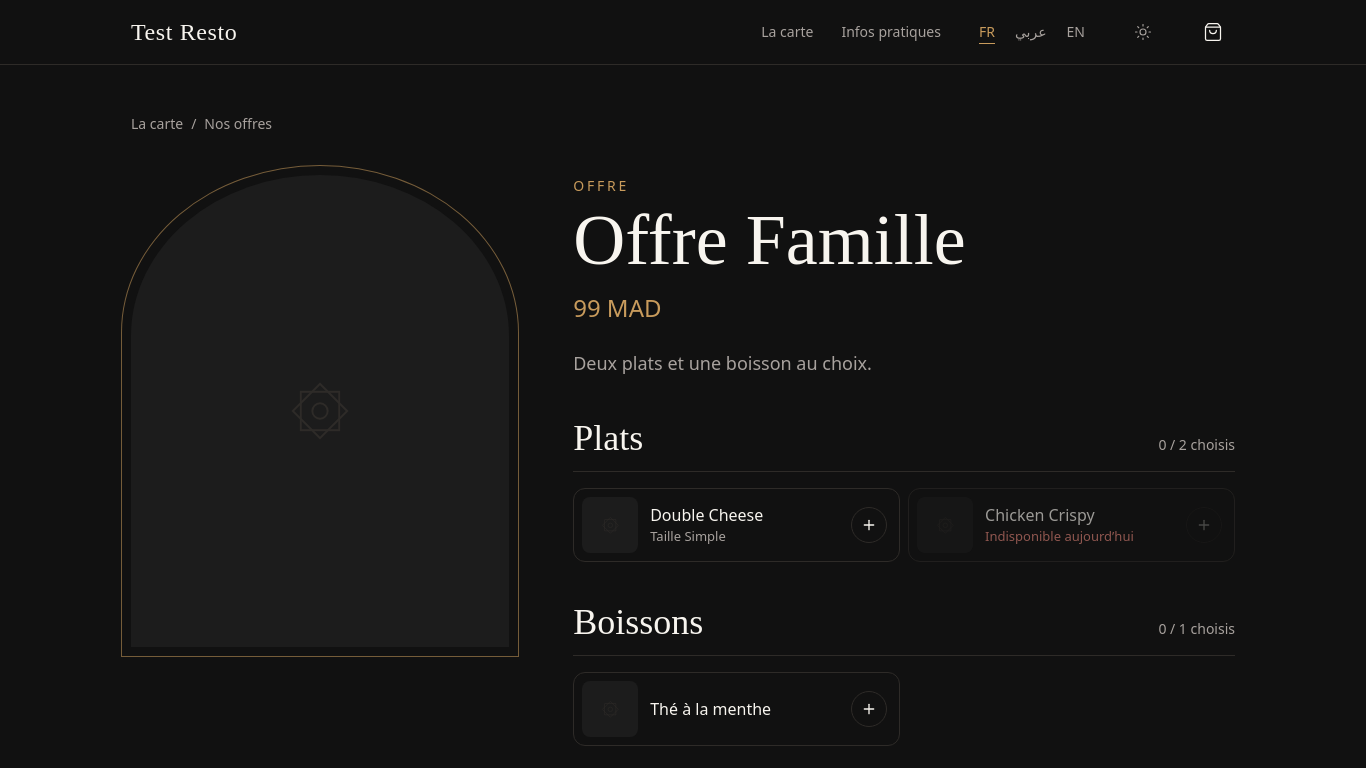
it: offers › are built by picking dishes in every group, then added to the cart
Later steps or results of the test are not shown.
Expected: the heading "Offre Famille" is shown, [573,200,966,280]
Expected: the button named "Ajouter : Chicken Crispy" is disabled, [1186,507,1222,543]
What coordinates should you click on to do the following:
click the button named "Ajouter : Double Cheese"
I would click on:
 (869, 525)
Its box is [851,507,887,543].
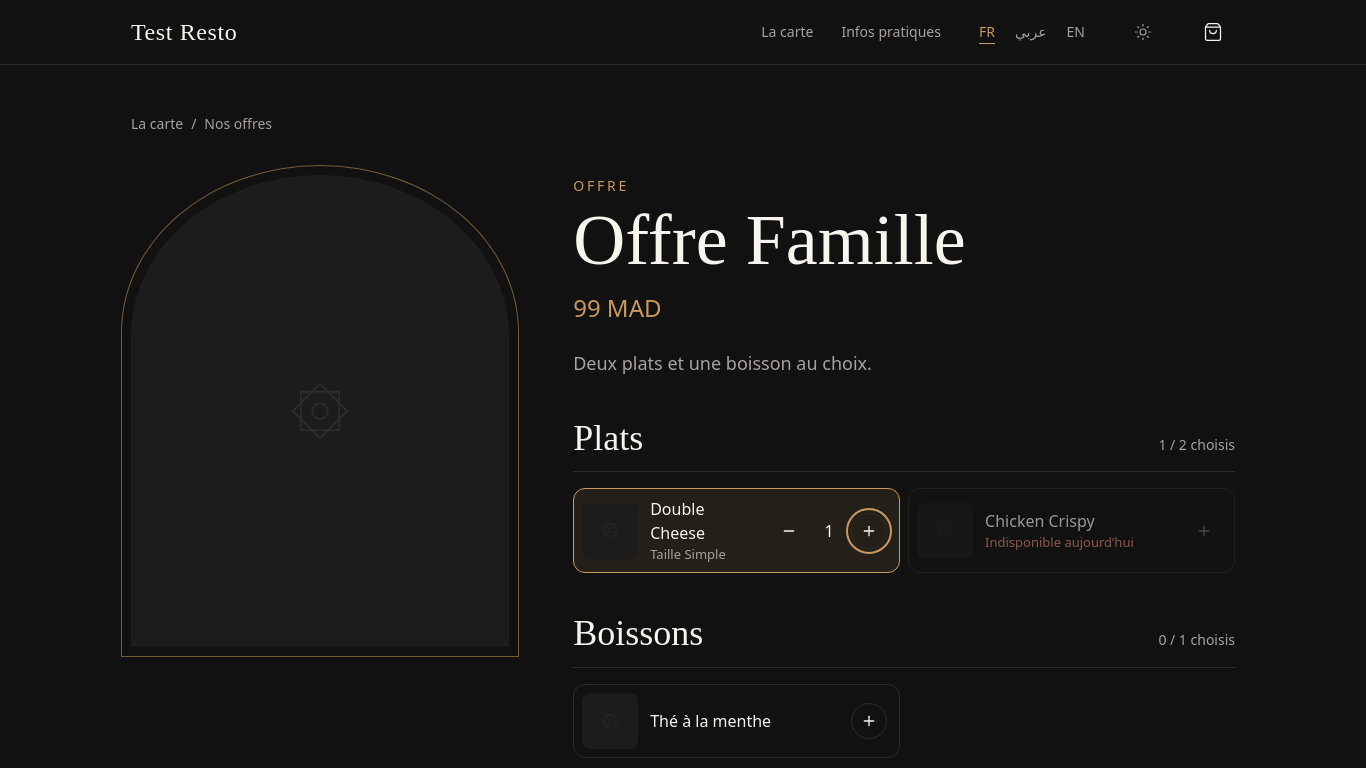
What coordinates should you click on to do the following:
click the button named "Ajouter : Double Cheese"
I would click on:
 (869, 531)
Its box is [851,513,887,549].
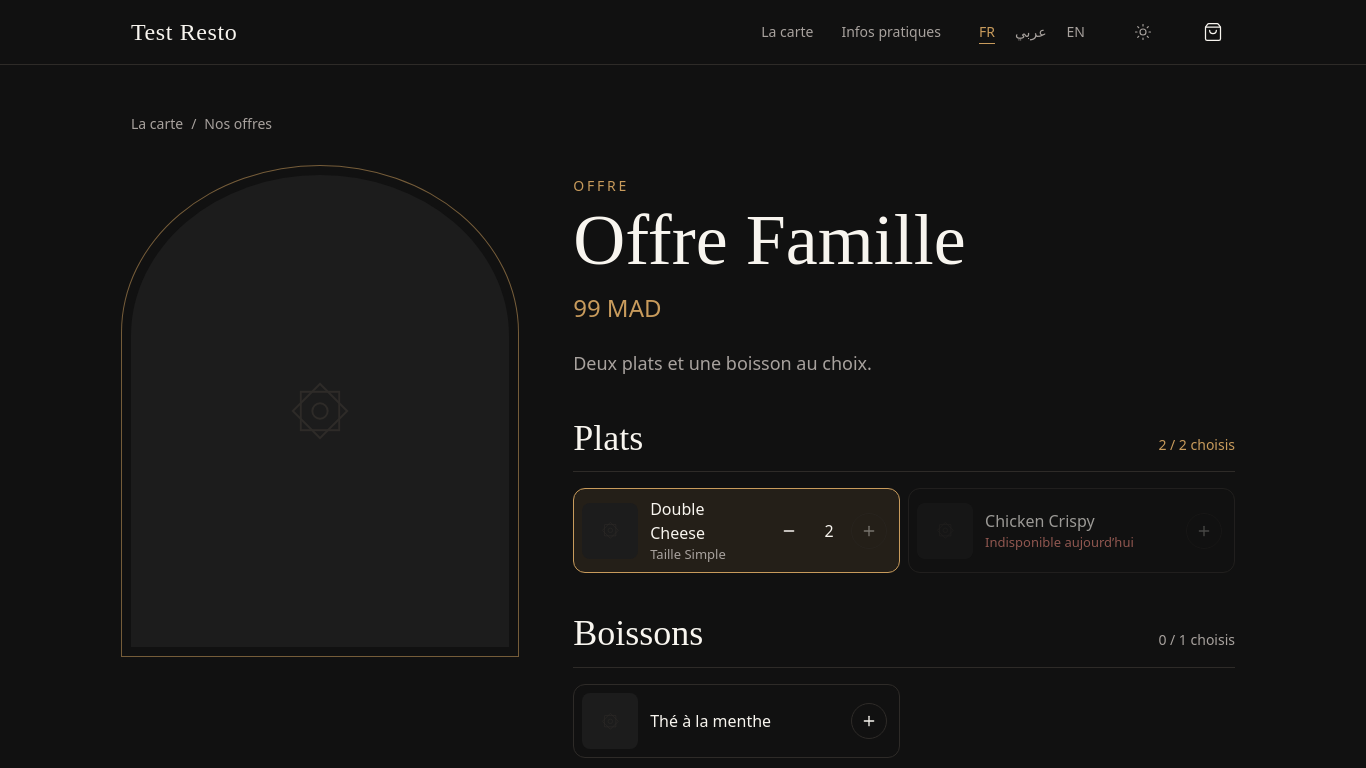
Now the button named "Ajouter : Double Cheese" is disabled, box [851,513,887,549]
Now the text "2 / 2 choisis" is shown, box [1158,434,1235,455]
What coordinates should you click on to do the following:
click the button named "Ajouter : Thé à la menthe"
I would click on:
 (869, 721)
Its box is [851,703,887,739].
(page scrolled)
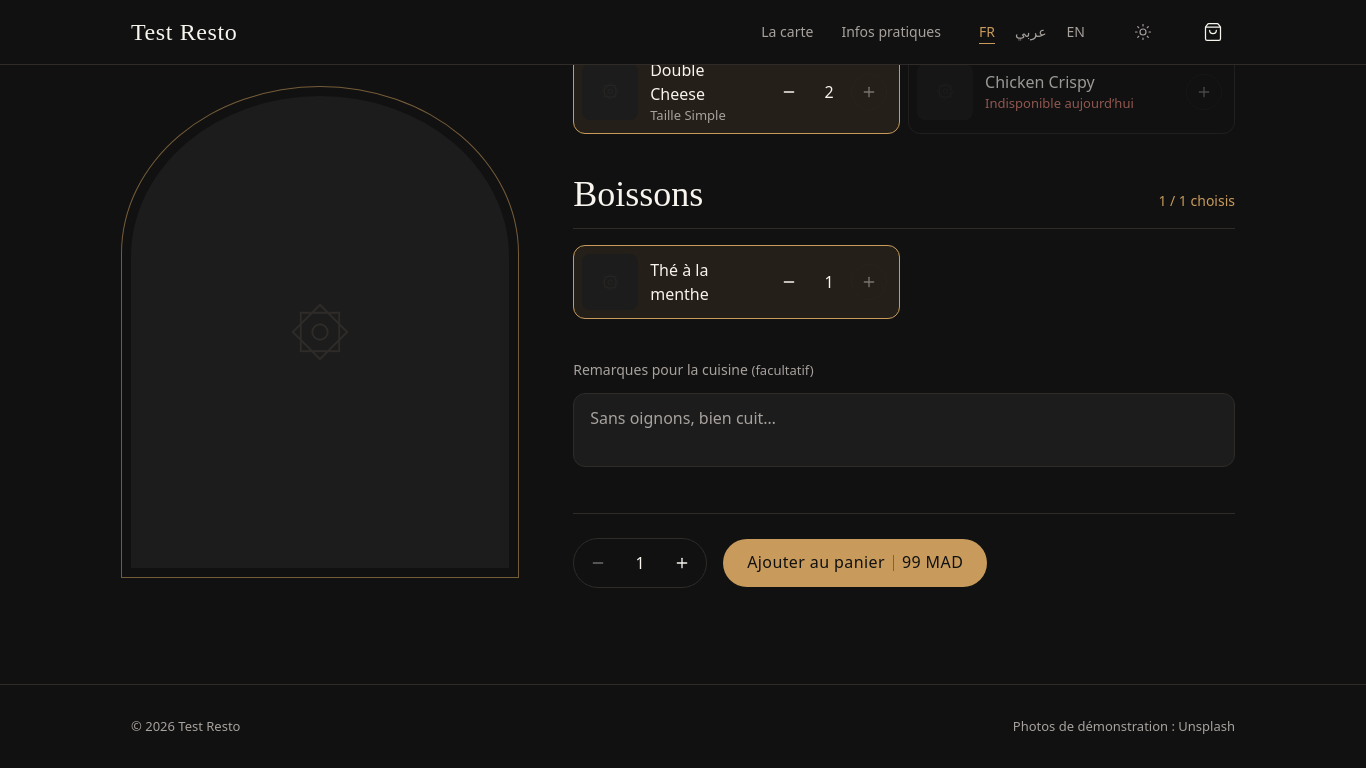
Expected: the button "Ajouter au panier 99 MAD" is shown, [723,538,987,586]
Now the button "Ajouter au panier 99 MAD" is enabled, box [723,538,987,586]
